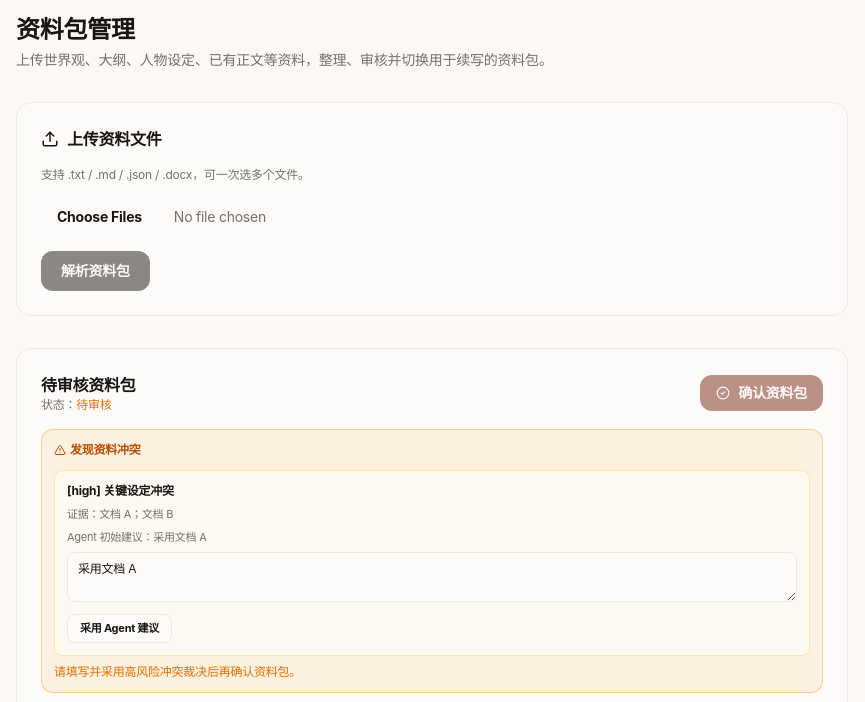
Test case: ContinuationPackView A/B late response › draft high contradiction requires explicit resolution and submits it on approval
Check: the text "Agent 初始建议：采用文档 A" is shown, box [67,530,207,544]
Check: the button "确认资料包" is disabled, box [700,375,823,411]
Replace the text in the text box named "冲突裁决：关键设定冲突" with "采用文档 B". click: point(432, 577)
box: [67,552,797,602]
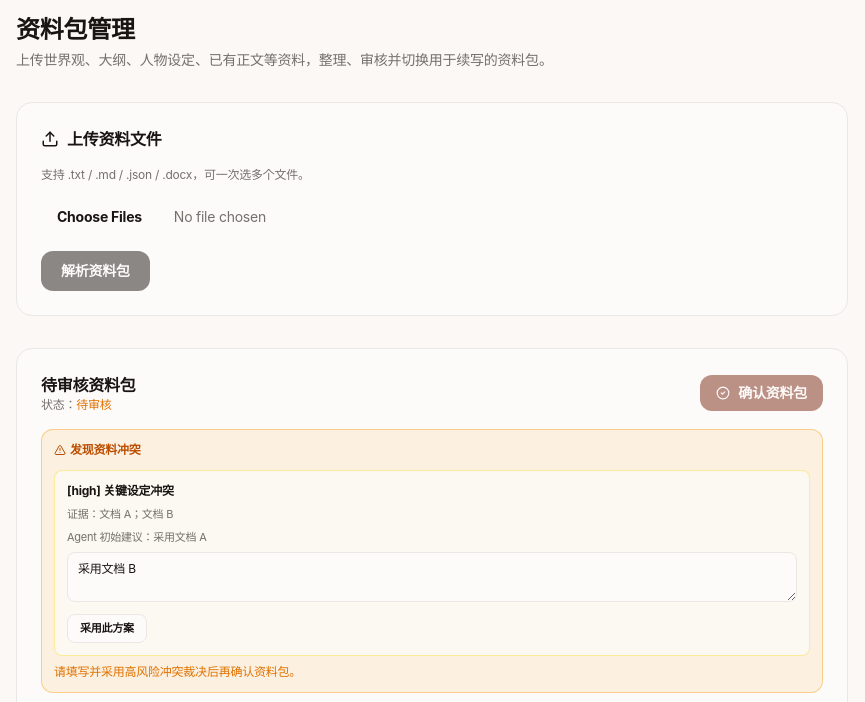
Check: the button "确认资料包" is disabled, box [700,375,823,411]
Click the button "采用此方案". click: point(107, 629)
box: [67,614,147,643]
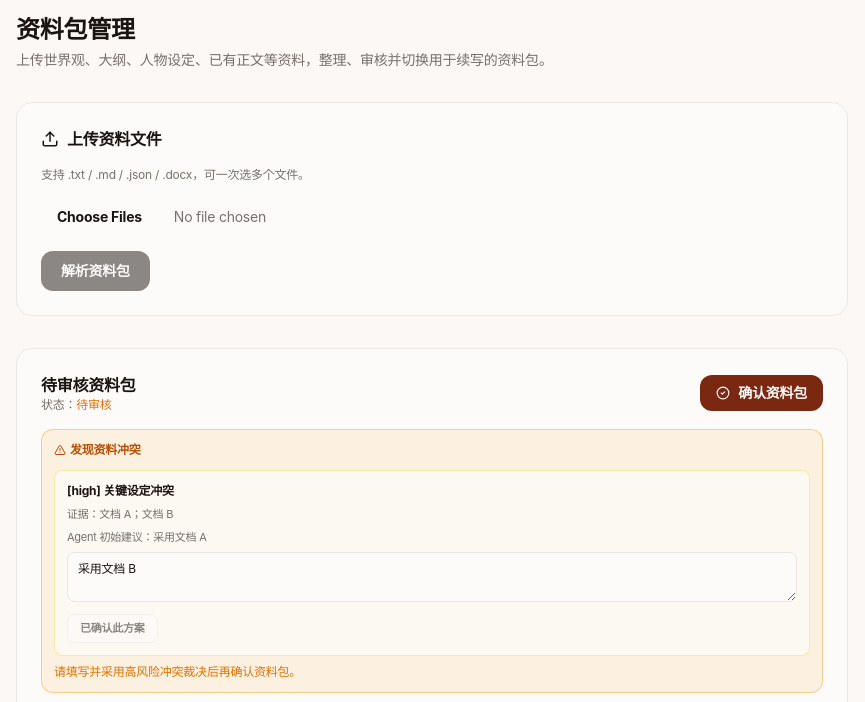
Check: the button "确认资料包" is enabled
Click the button "确认资料包". click: point(762, 393)
box: [700,375,823,411]
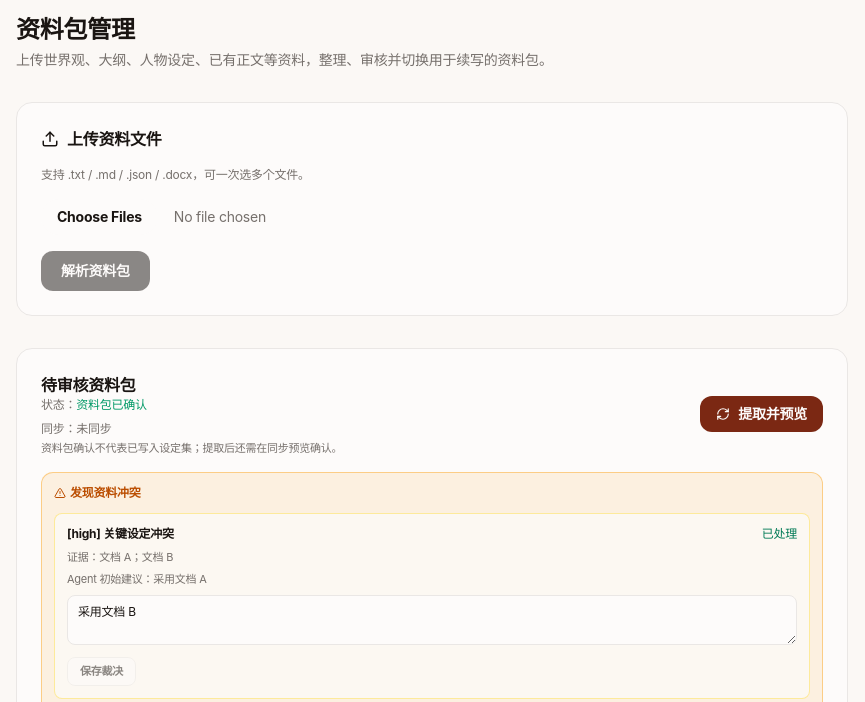
Check: the text "资料包已确认" is shown, box [76,397,147,412]
